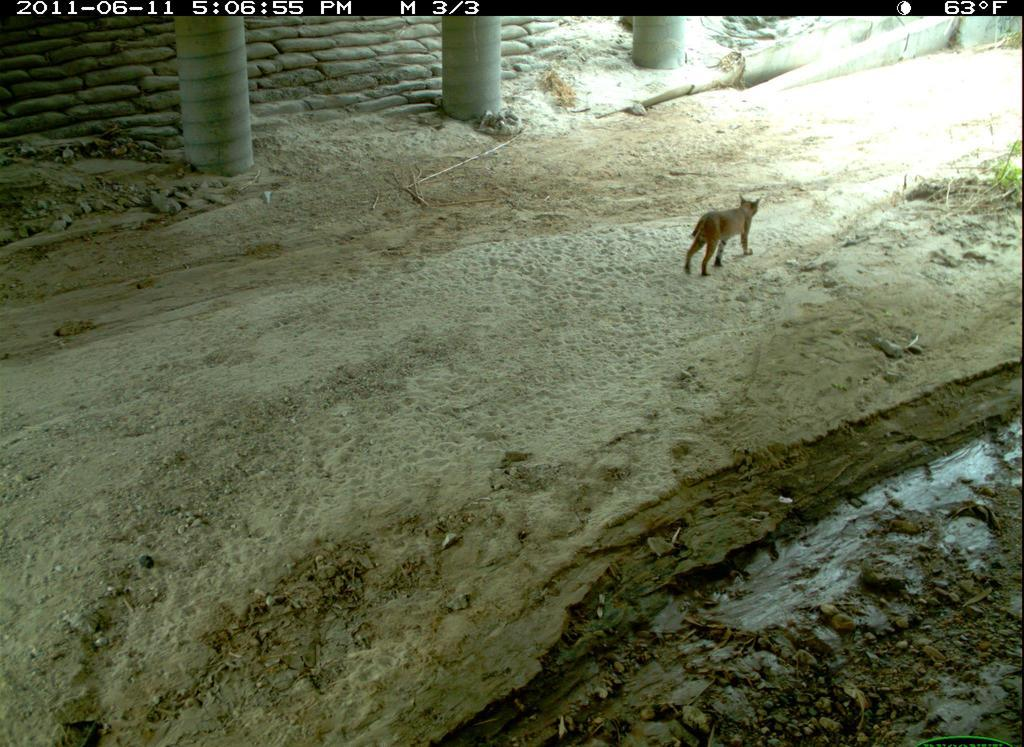bobcat: (674, 191, 767, 280)
